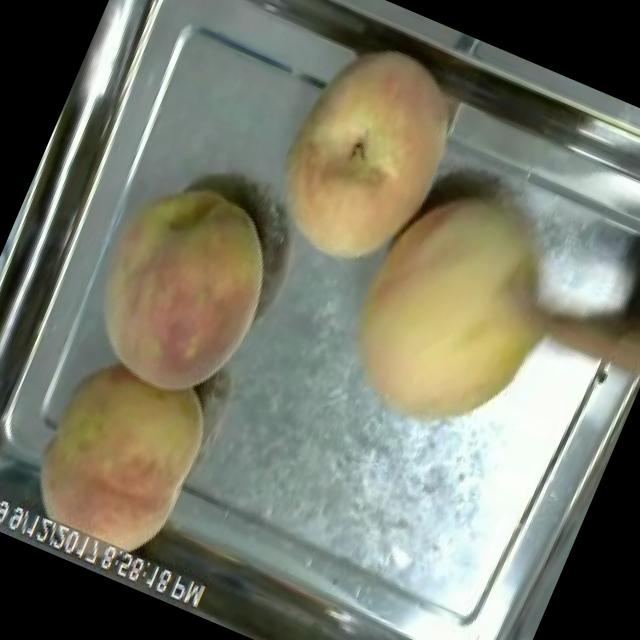Fruit: (314, 152, 597, 463), (242, 14, 493, 300), (52, 151, 303, 422), (2, 337, 230, 585)
